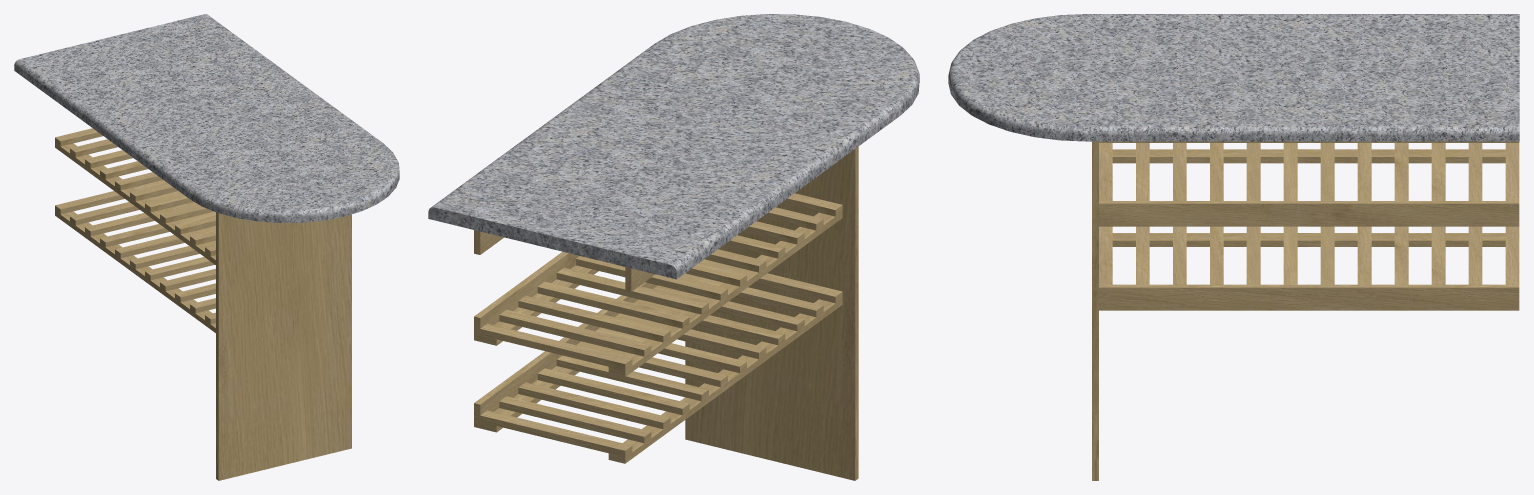
Rendered from sh_blend_swap_cc_0_islandextension.glb.
3 views of the same model, side by side, from view 1: azimuth 30°, elevation 25°; view 2: azimuth 150°, elevation 25°; view 3: azimuth 270°, elevation 25° (orthographic). The views are drawn at different scales.
Size of the model in its own units: 0.6 by 0.885 by 1.24.
Materials: 7 (7 with a texture image).
